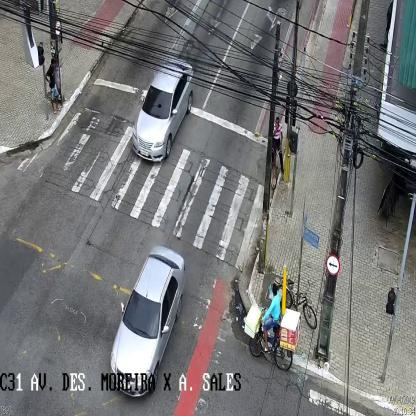bicycle: (244, 282, 299, 372), (276, 278, 317, 329), (270, 116, 286, 194)
car: (110, 244, 185, 398), (132, 57, 194, 163)
person: (45, 56, 61, 116)
